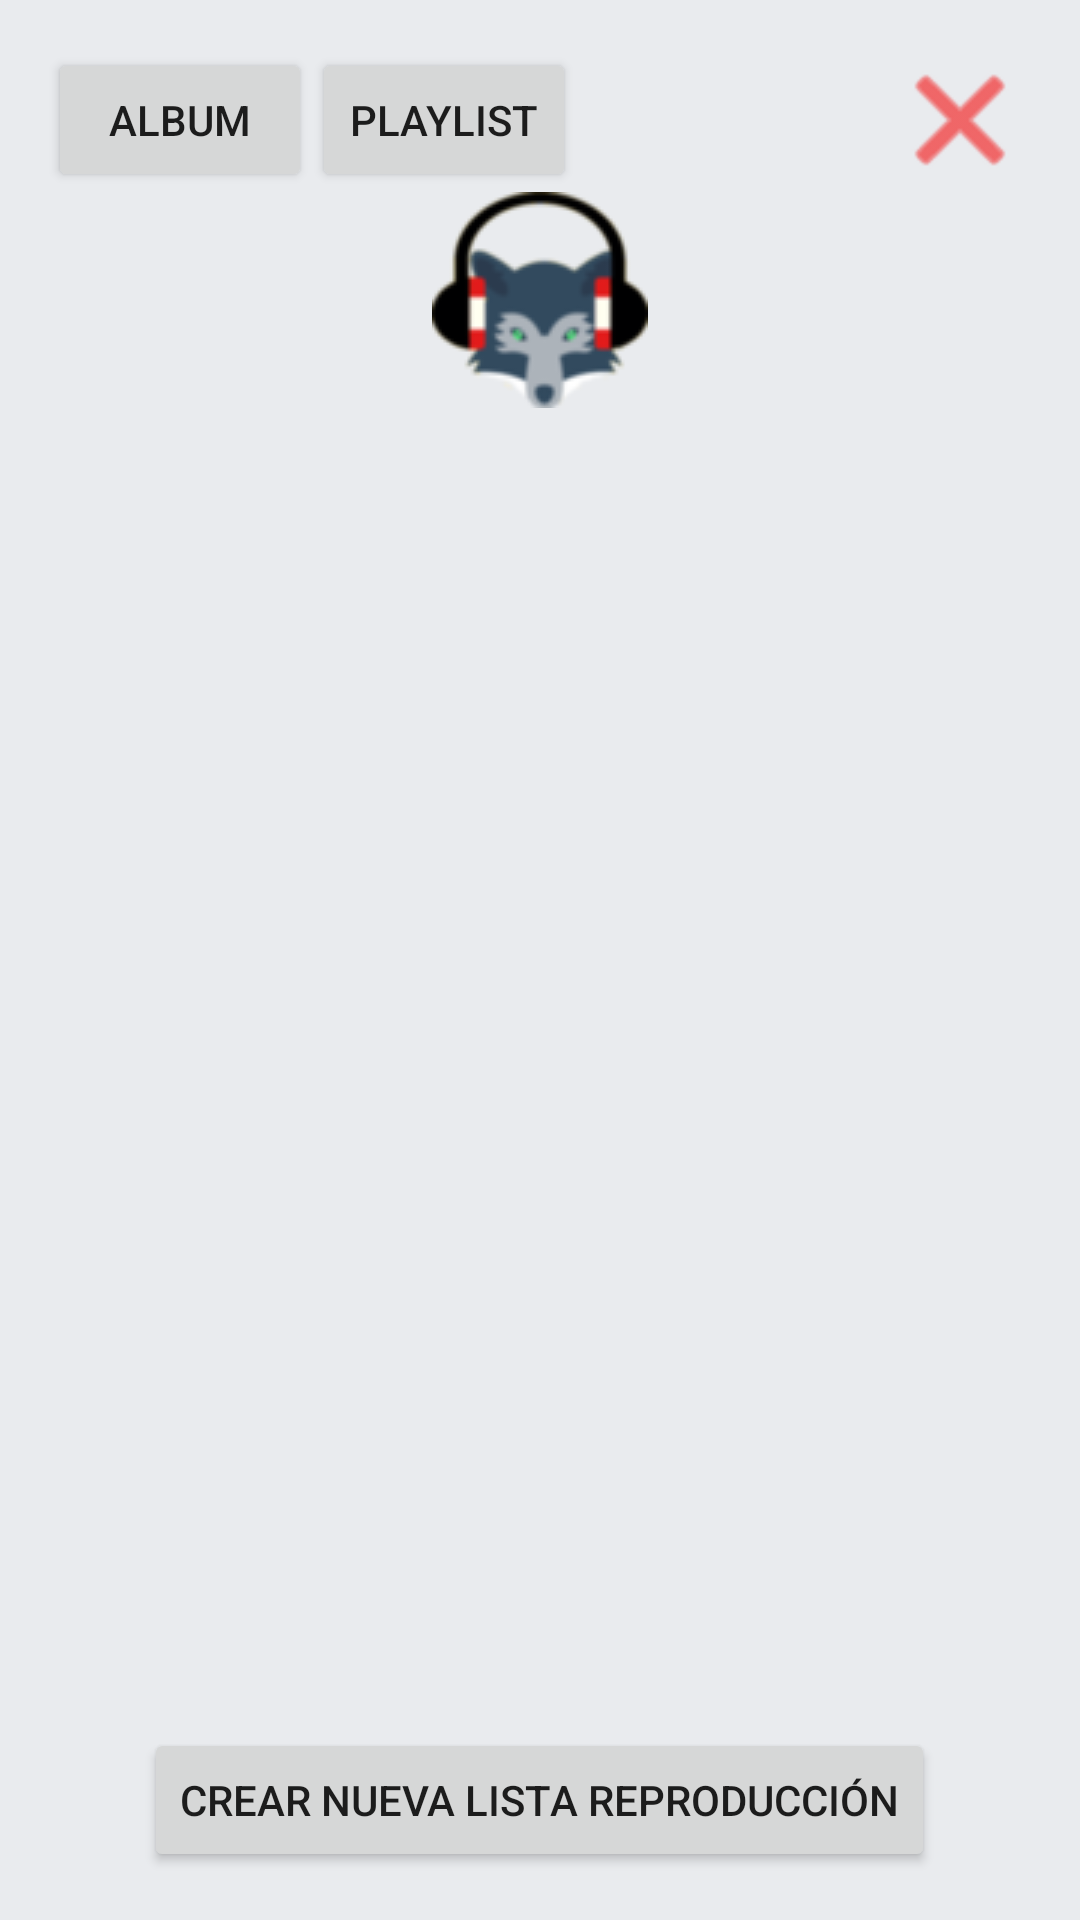

Icon click points for this 1080 × 1920 phone screenshot, format [x,y]:
close clear cancel: [960,120]
